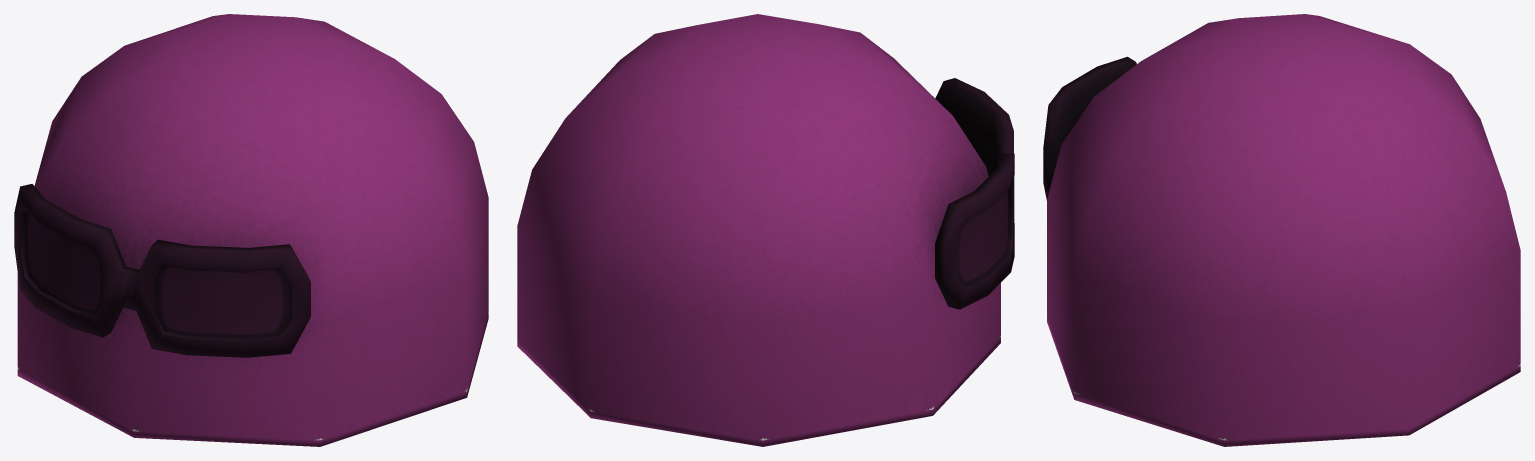
Rendered from Android_head_pink.dae.
3 views of the same model, side by side, from view 1: azimuth 30°, elevation 25°; view 2: azimuth 150°, elevation 25°; view 3: azimuth 270°, elevation 25° (orthographic).
Parts seen in each view (by area): view 1: Head, Glasses; view 2: Head, Glasses; view 3: Head, Glasses.
Boxes of the visible parts, x1,y1,x2,y2 form: Head: (17,14,488,446); Glasses: (14,184,310,357); Head: (517,14,1000,446); Glasses: (935,78,1014,309); Head: (1047,14,1520,446); Glasses: (1043,56,1136,200).
Bounding box in the file's own units: 2.03 × 1.95 × 1.38.
3 materials, 3 textured.
